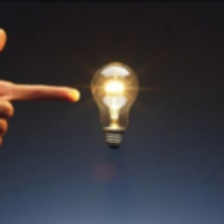light_bulb: (86, 57, 143, 152)
